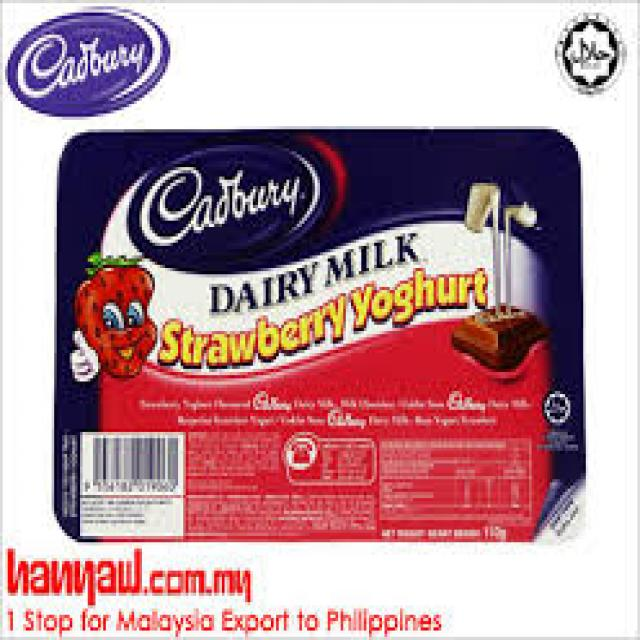cadbury: (53, 130, 588, 541)
